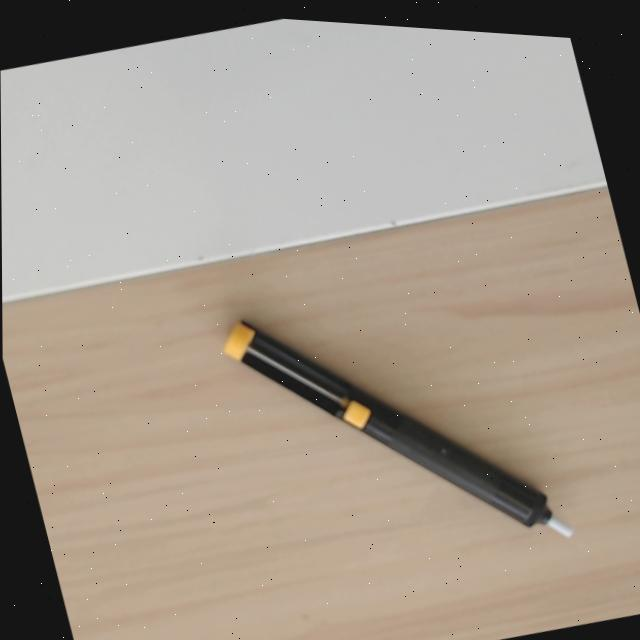Desoldering-Pump: (220, 317, 587, 555)
